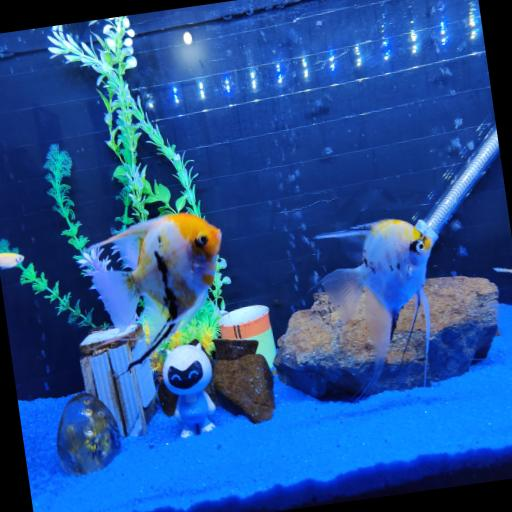Fish: (316, 219, 437, 394), (93, 213, 221, 367), (0, 252, 24, 268), (493, 268, 511, 273)
